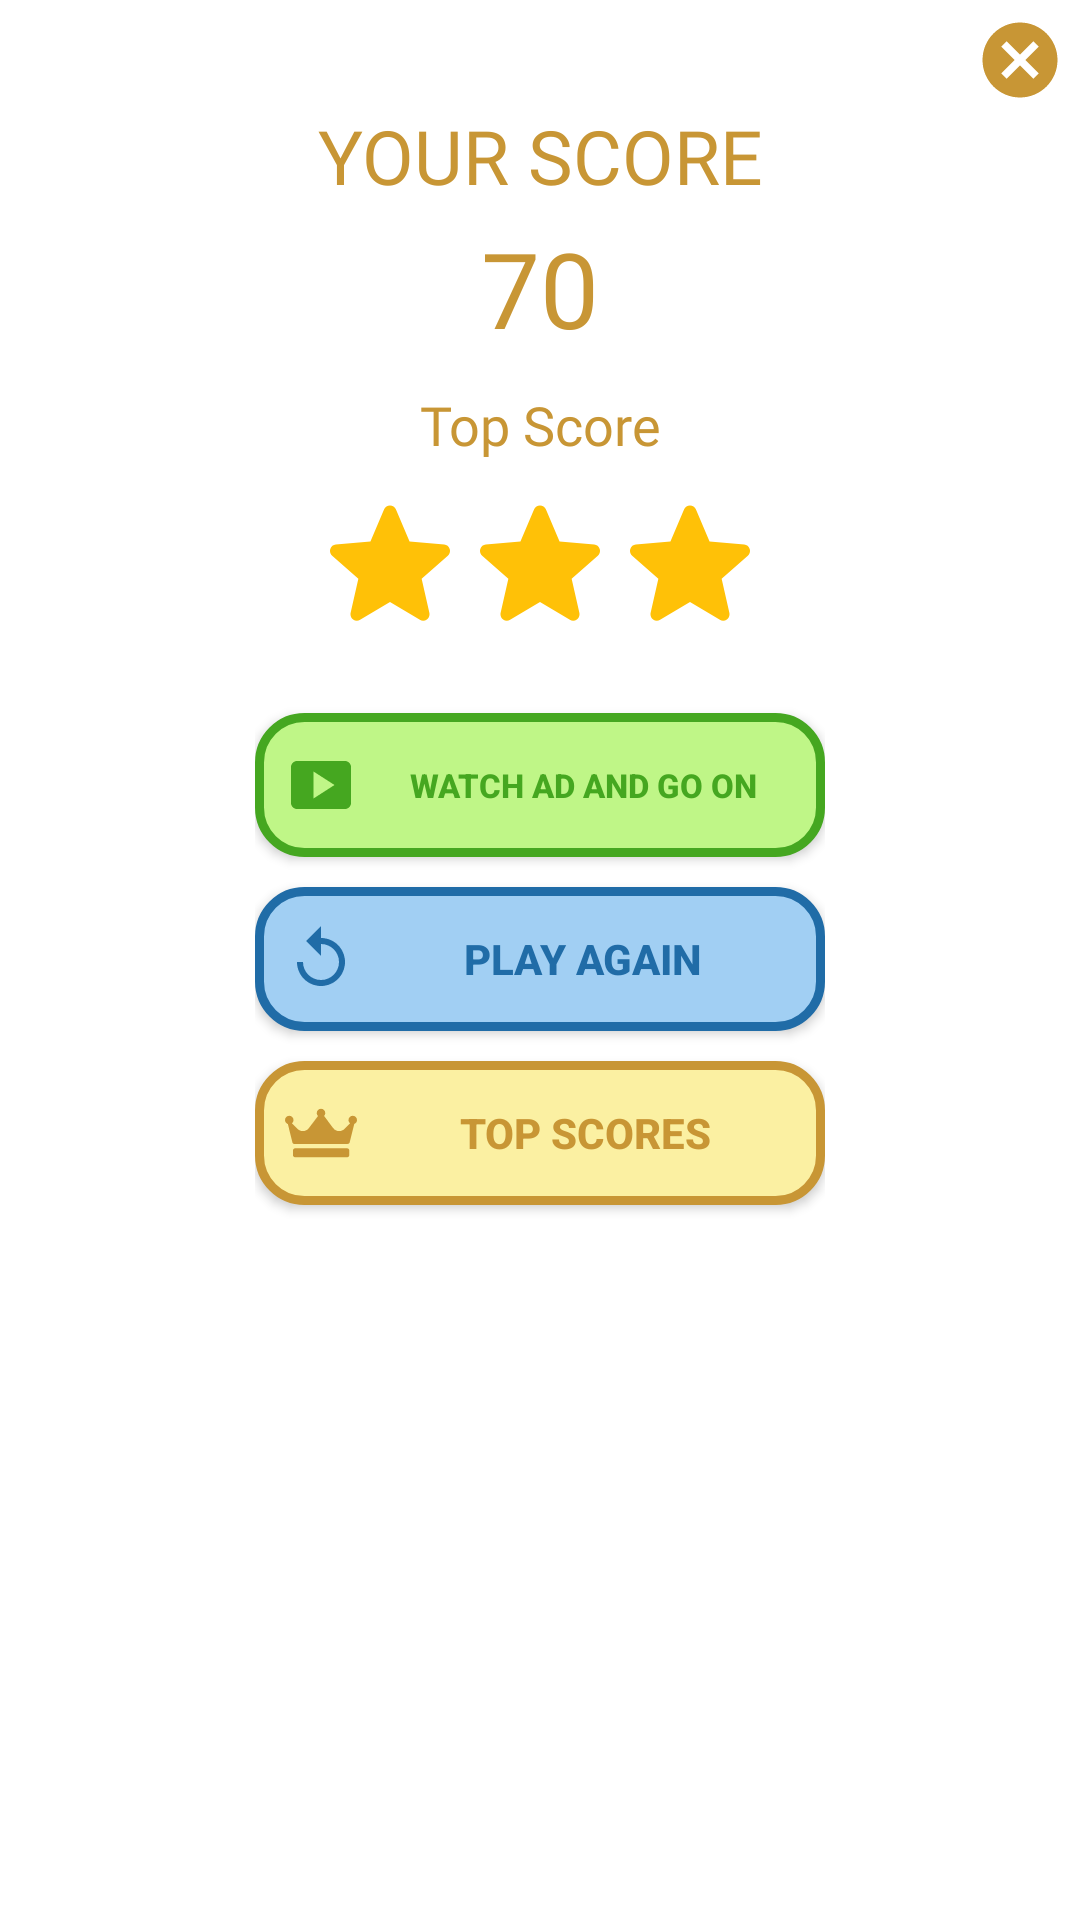

Named icons in this screenshot (1080 × 1920) and their centers, (x,y):
cancel: (1020,60)
star: (390,563), (540,563), (690,563)
